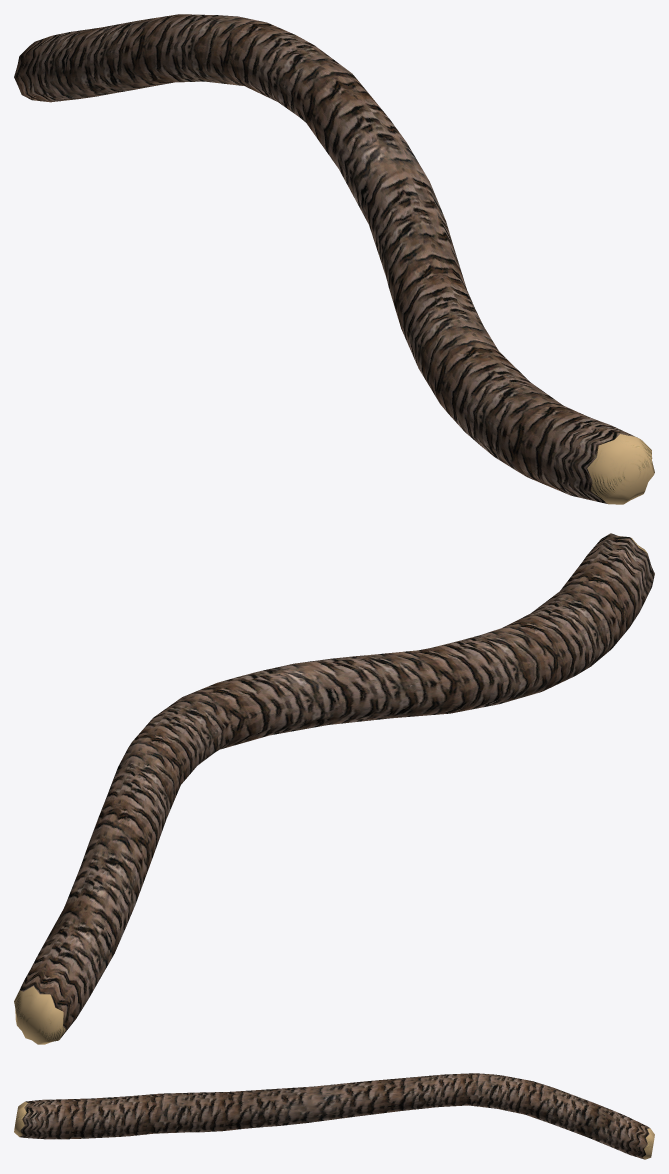
Rendered from PalmBridge1Shape.dae.
3 views of the same model, one above another, from view 1: azimuth 30°, elevation 25°; view 2: azimuth 150°, elevation 25°; view 3: azimuth 270°, elevation 25° (orthographic). The views are drawn at different scales.
Visible parts, largest first — view 1: PalmBridge1; view 2: PalmBridge1; view 3: PalmBridge1.
Part boxes in pixels (x1,y1,x2,y2): PalmBridge1: (14,14,654,504); PalmBridge1: (14,533,654,1044); PalmBridge1: (14,1073,654,1159).
Size of the model in its own units: 8.3 by 9.09 by 54.34.
